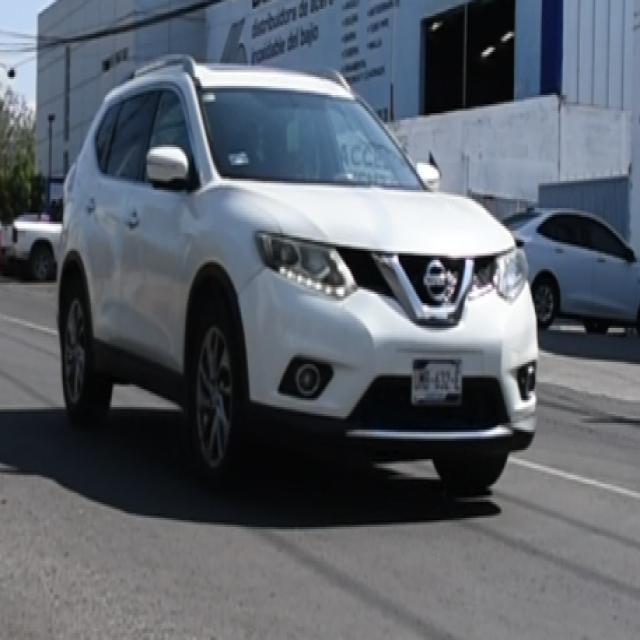placa: (413, 366, 462, 392)
